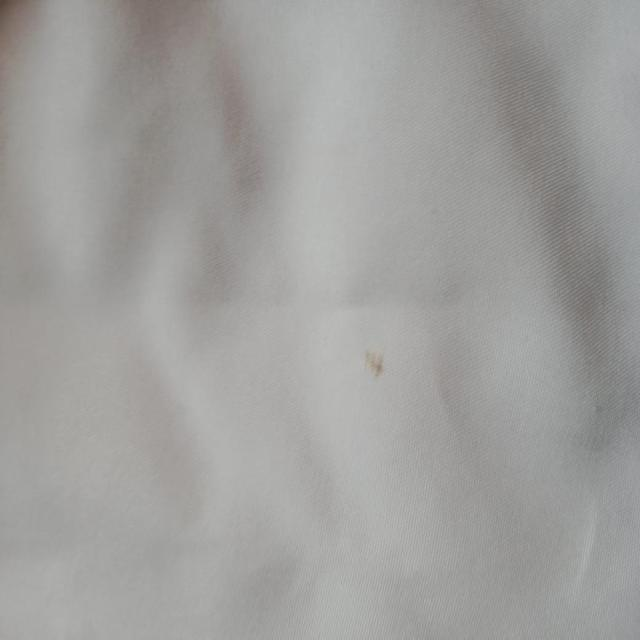stain: (355, 341, 396, 386)
